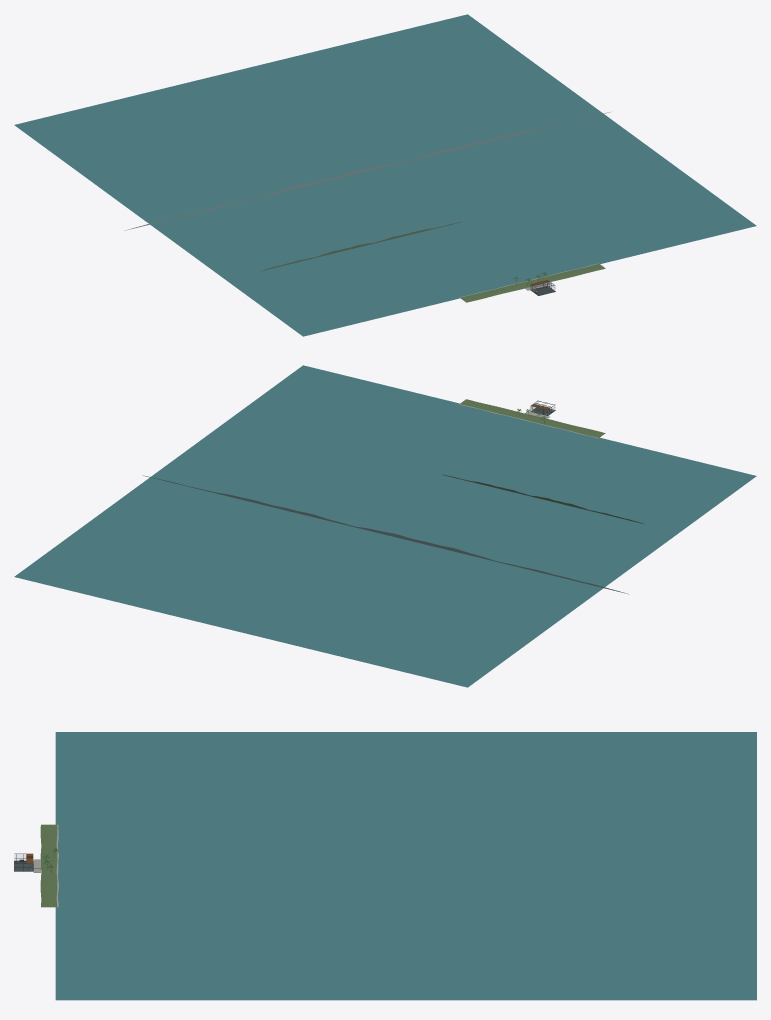
File: ServiceShowroomLoft.glb
The picture shows the model from 3 angles, top to bottom: view 1: azimuth 30°, elevation 25°; view 2: azimuth 150°, elevation 25°; view 3: azimuth 270°, elevation 25°; orthographic projection. The views are drawn at different scales.
Parts seen in each view (by area): view 1: ServiceShowroomLoft_Loft_Arabian_Sea, ServiceShowroomLoft_Loft_Distant_Headland, ServiceShowroomLoft_Loft_Coastal_Grass; view 2: ServiceShowroomLoft_Loft_Arabian_Sea, ServiceShowroomLoft_Loft_Distant_Headland, ServiceShowroomLoft_Loft_Coastal_Grass; view 3: ServiceShowroomLoft_Loft_Arabian_Sea, ServiceShowroomLoft_Loft_Coastal_Grass.
Part boxes in pixels (x1,y1,x2,y2): ServiceShowroomLoft_Loft_Arabian_Sea: (14,14,756,336); ServiceShowroomLoft_Loft_Distant_Headland: (124,112,610,230); ServiceShowroomLoft_Loft_Coastal_Grass: (460,264,605,302); ServiceShowroomLoft_Loft_Arabian_Sea: (14,365,756,687); ServiceShowroomLoft_Loft_Distant_Headland: (142,475,628,594); ServiceShowroomLoft_Loft_Coastal_Grass: (460,399,605,437); ServiceShowroomLoft_Loft_Arabian_Sea: (55,732,756,1000); ServiceShowroomLoft_Loft_Coastal_Grass: (40,824,57,907).
Bounding box in the file's own units: 560 × 8.88 × 608.
